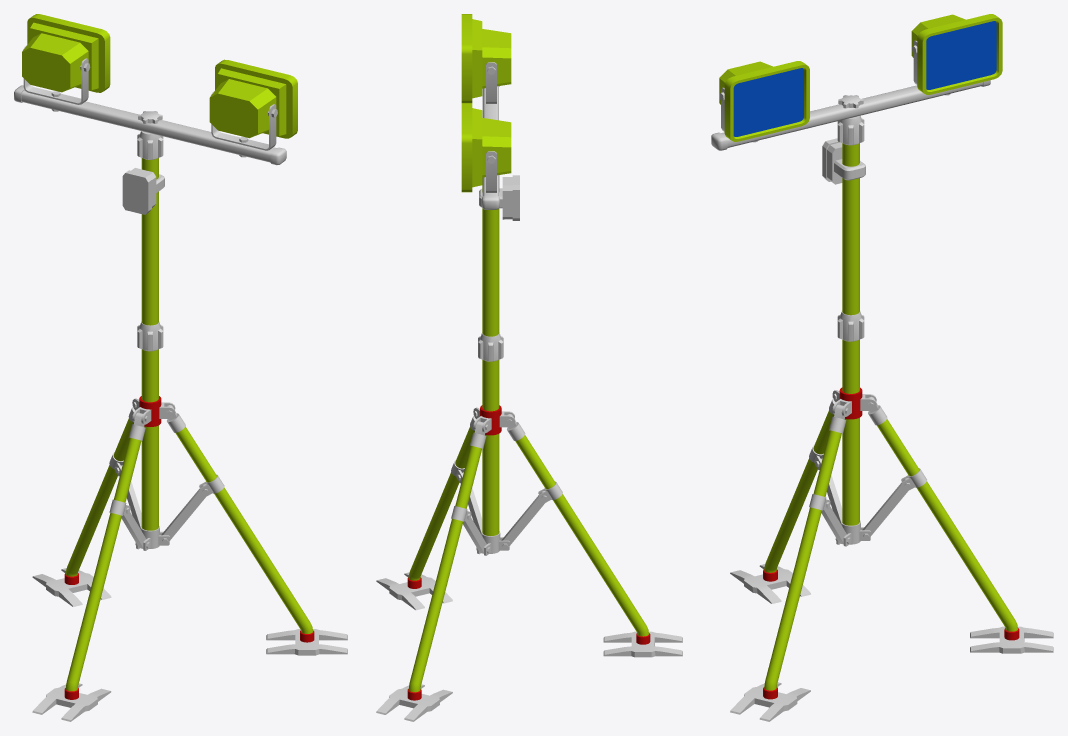
The model's file is Lite_project.fbx.
3 renders of one model, left to right at view 1: azimuth 30°, elevation 25°; view 2: azimuth 150°, elevation 25°; view 3: azimuth 270°, elevation 25°, orthographic. The views are drawn at different scales.
Parts seen in each view (by area): view 1: Cube.008, Circle.002, Circle, Cube.005, Cube.006, Cube.009, Plane, Cube.002, Circle.005, Circle.006; view 2: Circle.002, Cube.008, Circle, Cube.005, Cube.002, Cube.009, Plane, Circle.005, Cube.006; view 3: Cube.008, Circle.002, Circle, Cube.005, Cube.006, Cube.002, Cube.009, Circle.005, Circle.006.
Boxes of the visible parts, x1,y1,x2,y2 form: Cube.008: (22,14,297,138); Circle.002: (64,418,314,699); Circle: (139,158,161,530); Cube.005: (32,568,347,721); Cube.006: (21,90,276,162); Cube.009: (122,168,164,214); Plane: (23,45,276,150); Cube.002: (121,465,206,548); Circle.005: (137,321,163,351); Circle.006: (137,131,163,159); Circle.002: (407,427,650,700); Cube.008: (461,14,511,192); Circle: (480,175,501,535); Cube.005: (376,572,682,721); Cube.002: (462,472,545,553); Cube.009: (479,175,519,220); Plane: (486,62,496,192); Circle.005: (478,332,503,361); Cube.006: (482,86,498,195); Cube.008: (719,14,1002,141); Circle.002: (763,410,1019,699); Circle: (839,143,862,525); Cube.005: (730,564,1053,721); Cube.006: (721,82,983,147); Cube.002: (821,458,908,544); Cube.009: (822,138,865,184); Circle.005: (837,310,864,341); Circle.006: (837,115,864,145).
Size of the model in its own units: 439 by 784 by 402.
